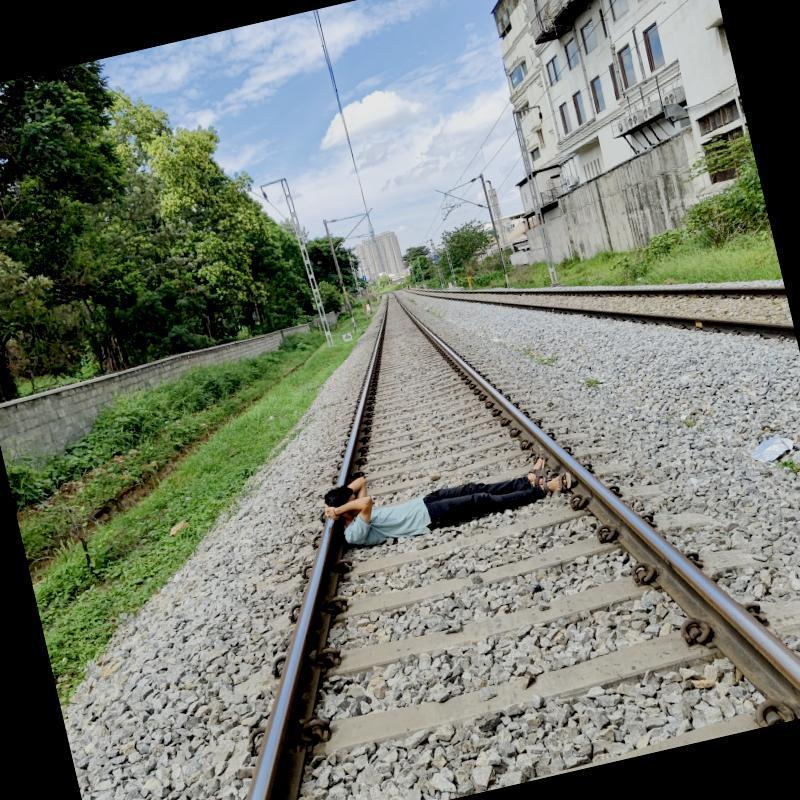sleeping: (312, 428, 585, 557)
